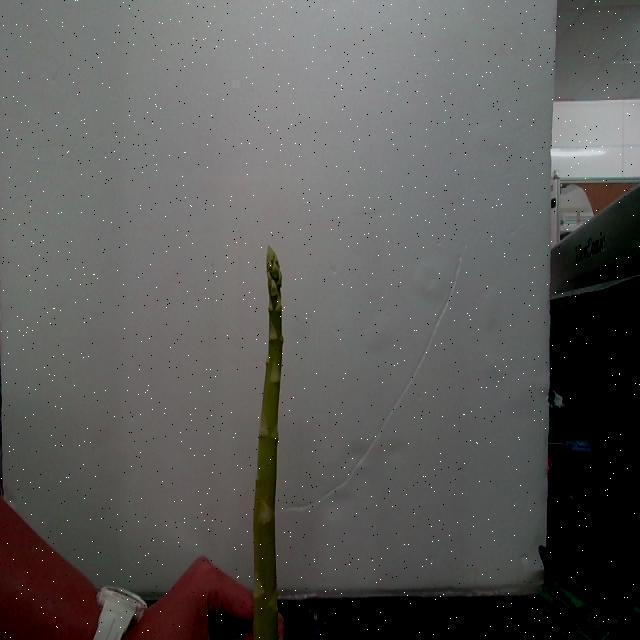aspargus: (254, 249, 287, 640)
